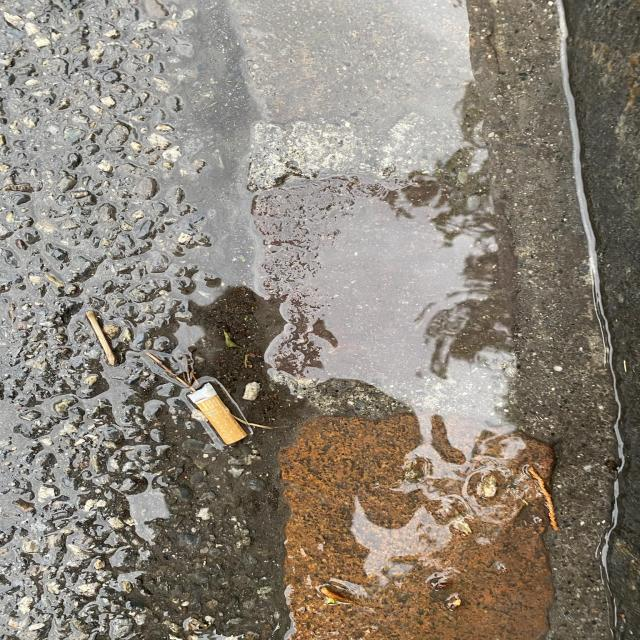other waste: (186, 381, 249, 446)
